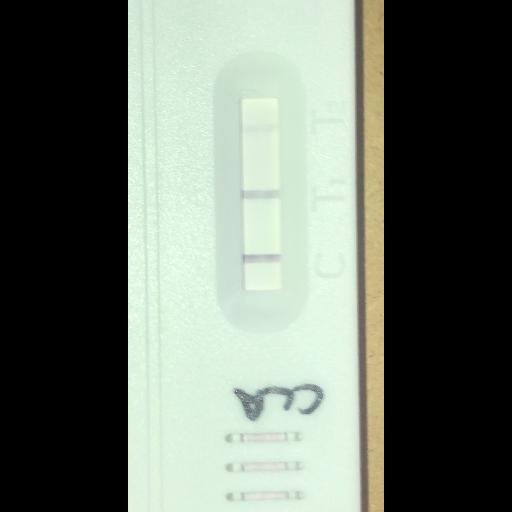Pos: (127, 0, 361, 511)
